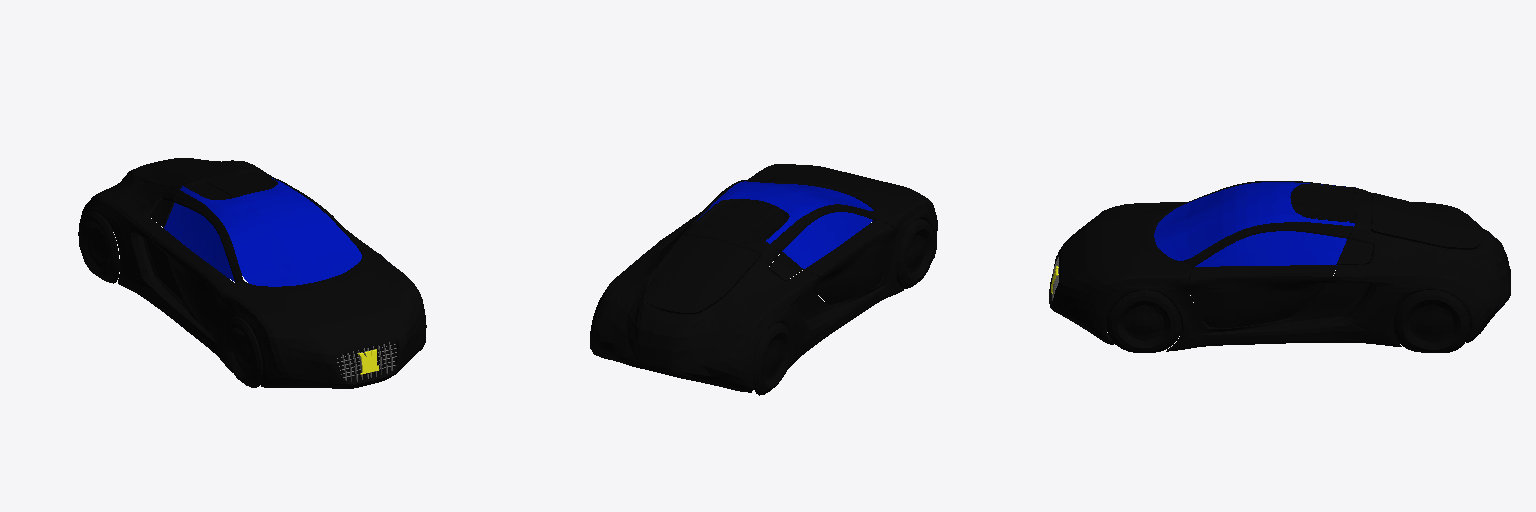
File: 04test_AudiRSQ.obj
The picture shows the model from 3 angles: view 1: azimuth 30°, elevation 25°; view 2: azimuth 150°, elevation 25°; view 3: azimuth 270°, elevation 25°; orthographic projection.
Visible parts, largest first — view 1: Audi_RSQ_car; view 2: Audi_RSQ_car; view 3: Audi_RSQ_car.
Part boxes in pixels (bbox=[...]): Audi_RSQ_car: bbox=[78, 158, 426, 388]; Audi_RSQ_car: bbox=[590, 164, 937, 395]; Audi_RSQ_car: bbox=[1049, 181, 1510, 352].
Size of the model in its own units: 28.95 by 19.17 by 68.32.